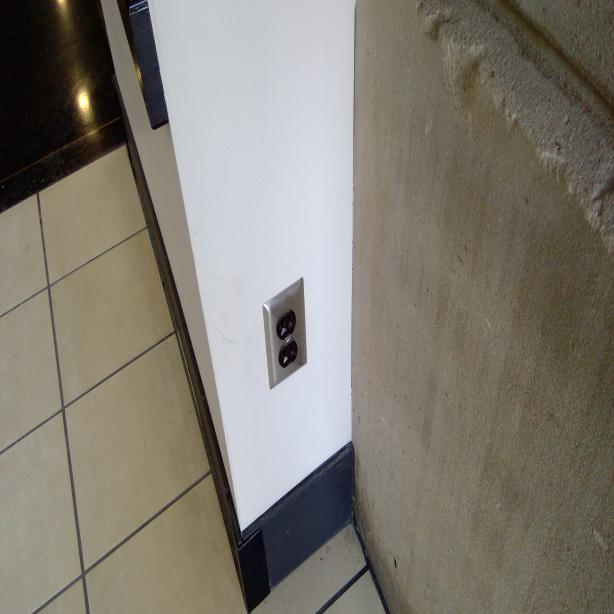typeb: (277, 314, 295, 338), (282, 342, 296, 369)
